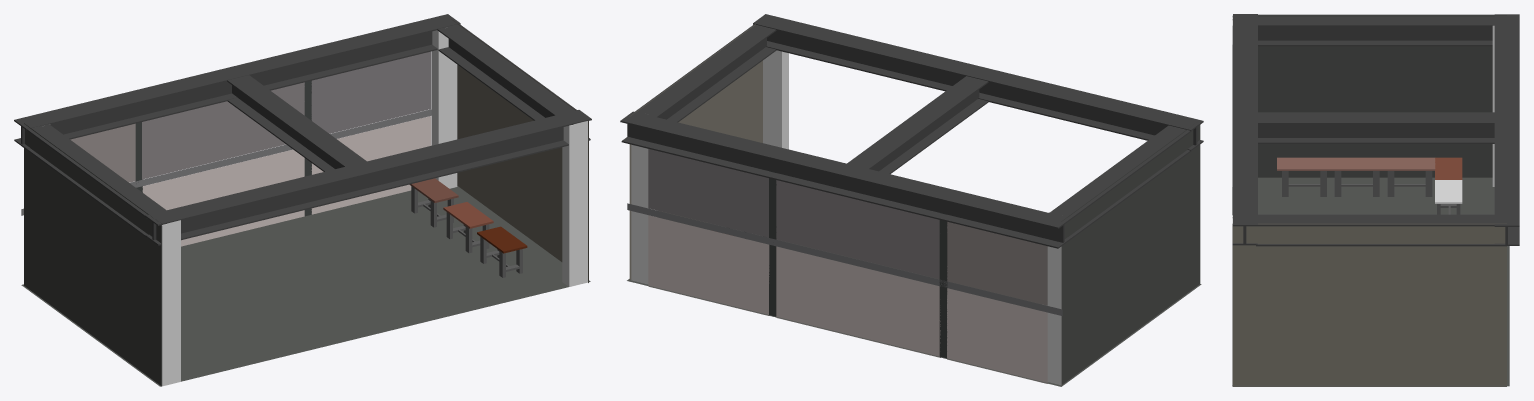
File: lab2.gltf
3 views of the same model, side by side, from view 1: azimuth 30°, elevation 25°; view 2: azimuth 150°, elevation 25°; view 3: azimuth 270°, elevation 25° (orthographic).
Parts seen in each view (by area): view 1: Piso, Vigas_Amarre, ParedFondo, ParedDerecha, ParedIzquierda.008, ParedIzquierda.007, ParedIzquierda.005, Columna4, Columna1, ParedIzquierda.006, Colimna3, ParedIzquierda.009 (+4 smaller); view 2: Vigas_Amarre, ParedFondo, ParedIzquierda.005, ParedIzquierda.008, ParedIzquierda.006, ParedIzquierda.001, ParedIzquierda.007, ParedIzquierda.009, ParedDerecha, ParedIzquierda.002, Columna4, Colimna3 (+4 smaller); view 3: ParedDerecha, Vigas_Amarre, ParedFondo, Piso, Mesa3, mesa4, mesa5, mesa1, mesa2, Columna2.
Part boxes in pixels (x1,y1,x2,y2): Piso: (21, 186, 590, 386); Vigas_Amarre: (14, 14, 591, 245); ParedFondo: (24, 123, 161, 386); ParedDerecha: (451, 19, 588, 282); ParedIzquierda.008: (142, 82, 304, 179); ParedIzquierda.007: (311, 51, 431, 133); ParedIzquierda.005: (142, 149, 304, 246); Columna4: (562, 121, 587, 286); Columna1: (161, 220, 180, 386); ParedIzquierda.006: (311, 116, 431, 214); Colimna3: (431, 30, 457, 188); ParedIzquierda.009: (70, 123, 135, 182); Vigas_Amarre: (620, 14, 1203, 248); ParedFondo: (1061, 124, 1200, 385); ParedIzquierda.005: (776, 246, 940, 357); ParedIzquierda.008: (776, 180, 939, 279); ParedIzquierda.006: (648, 215, 769, 315); ParedIzquierda.001: (947, 288, 1047, 383); ParedIzquierda.007: (648, 149, 768, 237); ParedIzquierda.009: (947, 222, 1047, 305); ParedDerecha: (629, 24, 762, 279); ParedIzquierda.002: (627, 203, 1062, 315); Columna4: (763, 50, 788, 149); Colimna3: (631, 144, 655, 284); ParedDerecha: (1232, 223, 1506, 386); Vigas_Amarre: (1232, 14, 1519, 246); ParedFondo: (1232, 15, 1506, 177); Piso: (1232, 177, 1509, 386); Mesa3: (1382, 157, 1435, 196); mesa4: (1329, 157, 1382, 196); mesa5: (1277, 157, 1329, 196); mesa1: (1435, 180, 1462, 214); mesa2: (1435, 157, 1462, 179); Columna2: (1492, 25, 1494, 186).
Size of the model in its own units: 18.04 by 6.51 by 10.39.
